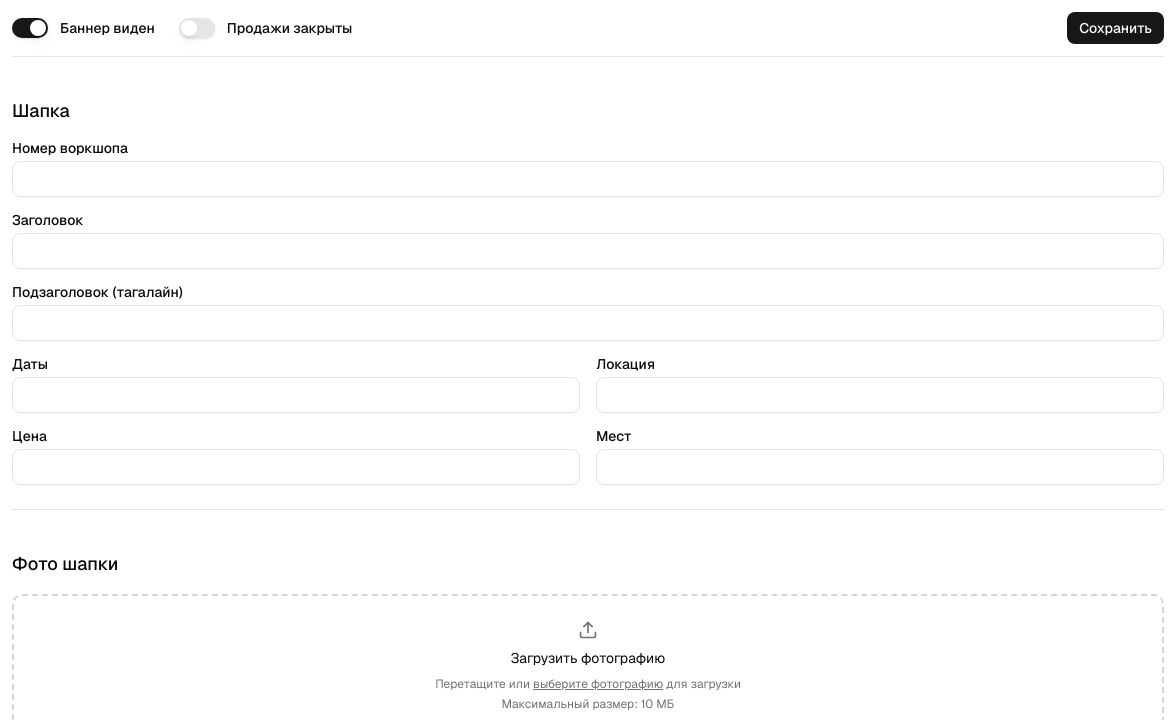
Test: <WorkshopTab /> subscribers section › restores the previous switch value after a failed save
What coordinates should you click on to do the following:
click the switch named "Баннер виден" next to "Баннер виден"
I would click on:
 (30, 28)
Its box is [12,18,48,38].
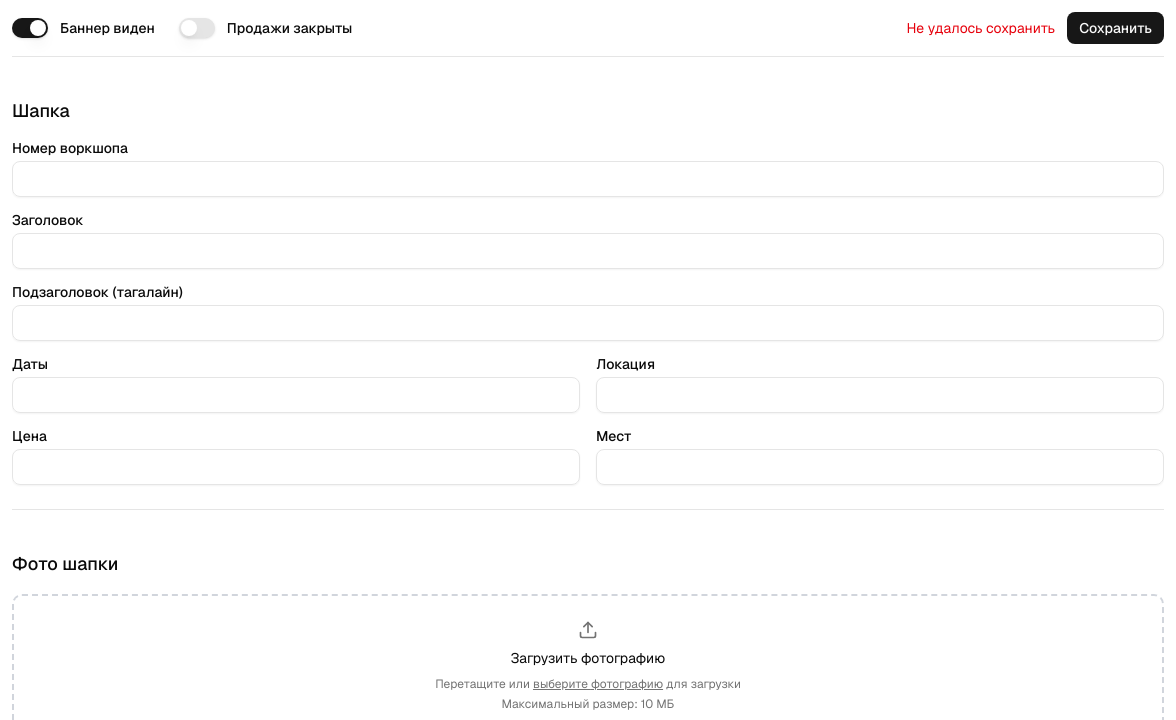
Expected: the text "Не удалось сохранить" is shown, [906,18,1055,38]
What coordinates should you click on to do the following:
click the switch named "Баннер виден" next to "Баннер виден"
I would click on:
 (30, 28)
Its box is [12,18,48,38].
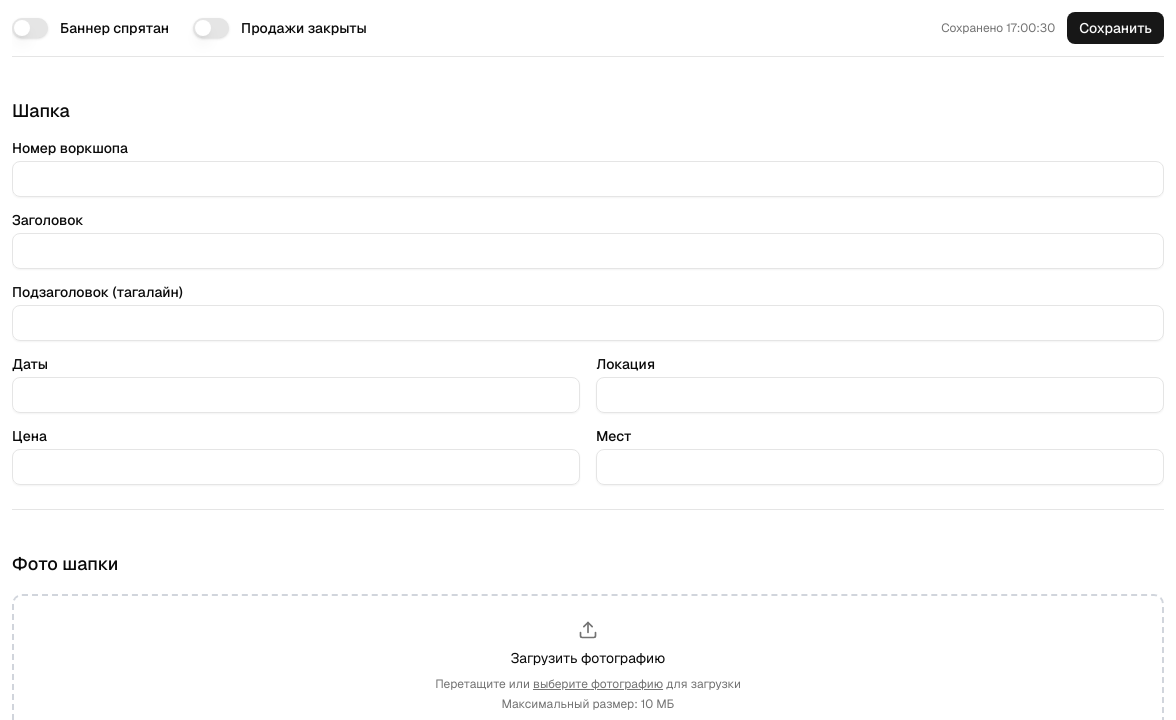
Expected: the text "Не удалось сохранить" is gone
